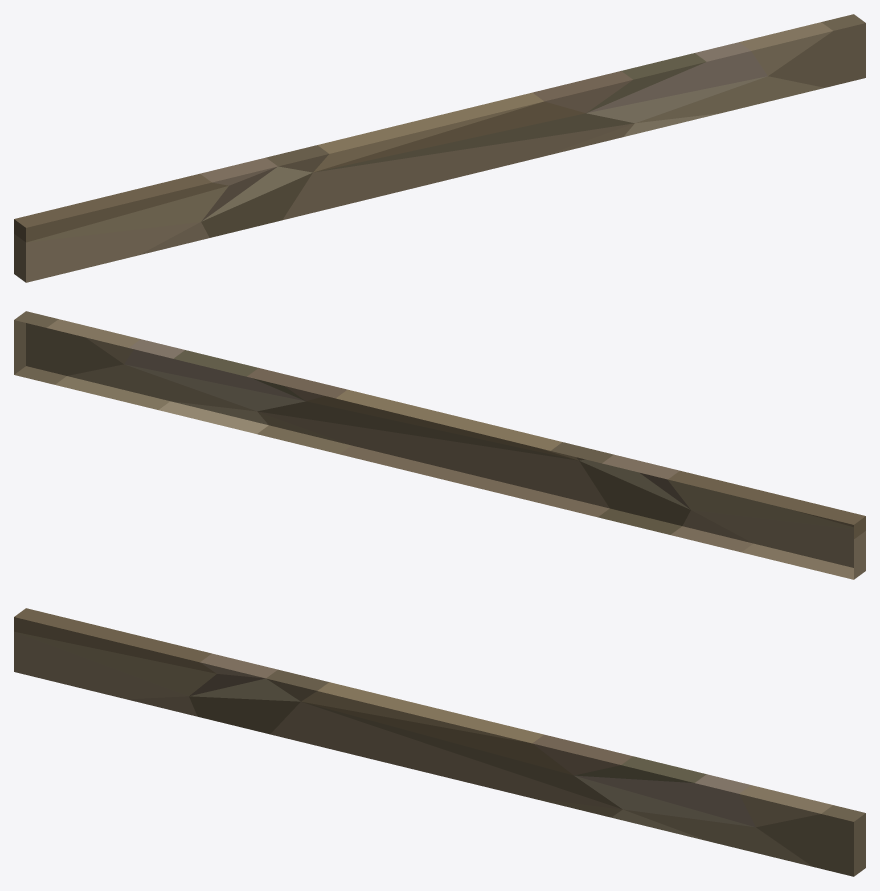
Rendered from Prop_UG-WoodE.fbx.
3 views of the same model, one above another, from view 1: azimuth 30°, elevation 25°; view 2: azimuth 150°, elevation 25°; view 3: azimuth 330°, elevation 25° (orthographic).
Visible parts, largest first — view 1: Prop_UG-WoodE; view 2: Prop_UG-WoodE; view 3: Prop_UG-WoodE.
Boxes of the visible parts, <box> form: Prop_UG-WoodE: <box>14,14,865,282</box>; Prop_UG-WoodE: <box>14,311,865,579</box>; Prop_UG-WoodE: <box>14,608,865,876</box>.
Size of the model in its own units: 400 by 25 by 10.
